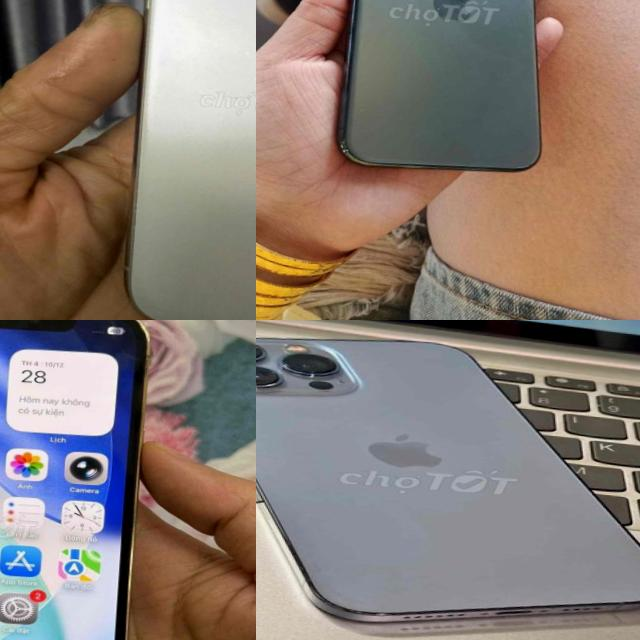gen_11: (100, 0, 256, 320), (329, 0, 565, 182)
gen_12_13: (256, 320, 640, 640), (0, 320, 159, 640)
